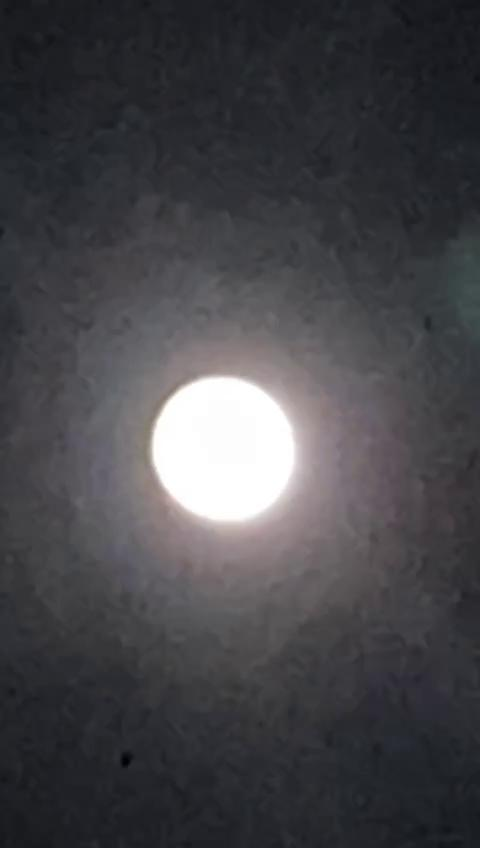moon: (116, 332, 283, 522)
